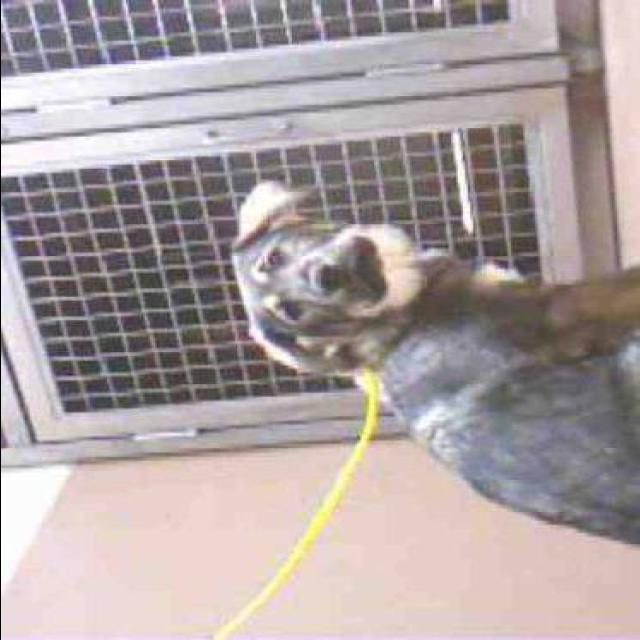dog: (218, 182, 640, 566)
